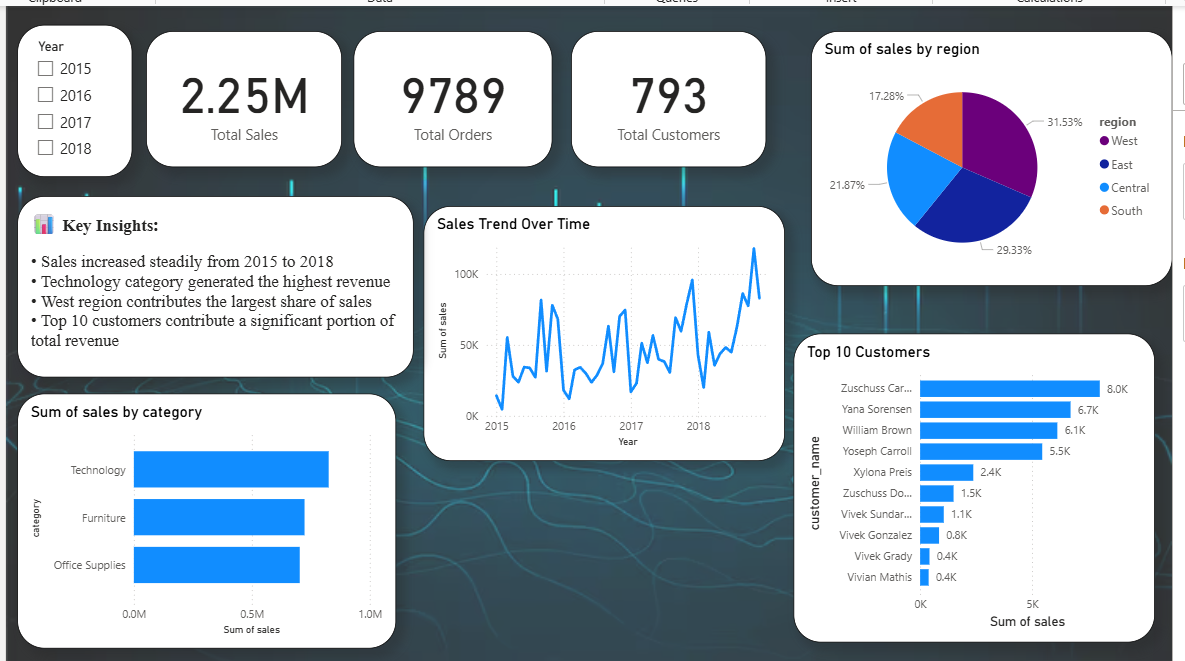

The dashboard page shown, as its layout file describes it:
{"tool":"powerbi","page":{"name":"Page 1","canvas":[1280,720],"ordinal":0},"visuals":[{"type":"lineChart","title":"Sales Trend Over Time","fields":{"Y":["Sum(cleaned_superstore.sales)"],"Category":["cleaned_superstore.order_date.Variation.Date Hierarchy.Year","cleaned_superstore.order_date.Variation.Date Hierarchy.Month"]},"box":[458.3,219.6,396.6,279.9],"z":0},{"type":"barChart","fields":{"Category":["cleaned_superstore.category"],"Y":["Sum(cleaned_superstore.sales)"]},"box":[12.3,425.4,415.8,279.9],"z":1000},{"type":"clusteredBarChart","title":"Top 10 Customers","fields":{"Category":["cleaned_superstore.customer_name"],"Y":["Sum(cleaned_superstore.sales)"]},"box":[864.5,359.5,396.6,338.9],"z":1001},{"type":"pieChart","fields":{"Category":["cleaned_superstore.region"],"Y":["Sum(cleaned_superstore.sales)"]},"box":[883.7,27.4,396.6,279.9],"z":1002},{"type":"slicer","fields":{"Values":["cleaned_superstore.order_date.Variation.Date Hierarchy.Year"]},"box":[12.3,20.6,126.2,167.4],"z":1003},{"type":"card","fields":{"Values":["Sum(cleaned_superstore.sales)"]},"box":[153.7,27.4,215.4,149.6],"z":1004},{"type":"card","fields":{"Values":["CountNonNull(cleaned_superstore.order_id)"]},"box":[381.5,27.4,218.2,149.6],"z":1005},{"type":"card","fields":{"Values":["Count(cleaned_superstore.customer_name)"]},"box":[620.2,27.4,214.1,149.6],"z":1006},{"type":"textbox","box":[12.3,208.6,435,199],"z":1007}]}

Visuals, with their boxes in screenshot pixels (x1, y1, x2, y2):
"Sales Trend Over Time" lineChart: rect(421, 205, 779, 458)
barChart - cleaned_superstore.category x Sum(cleaned_superstore.sales): rect(17, 391, 393, 644)
"Top 10 Customers" clusteredBarChart: rect(788, 331, 1147, 638)
pieChart - cleaned_superstore.region x Sum(cleaned_superstore.sales): rect(806, 31, 1164, 284)
slicer - cleaned_superstore.order_date.Variation.Date Hierarchy.Year: rect(17, 25, 131, 176)
card - Sum(cleaned_superstore.sales): rect(145, 31, 340, 166)
card - CountNonNull(cleaned_superstore.order_id): rect(351, 31, 549, 166)
card - Count(cleaned_superstore.customer_name): rect(567, 31, 761, 166)
textbox: rect(17, 195, 411, 375)
